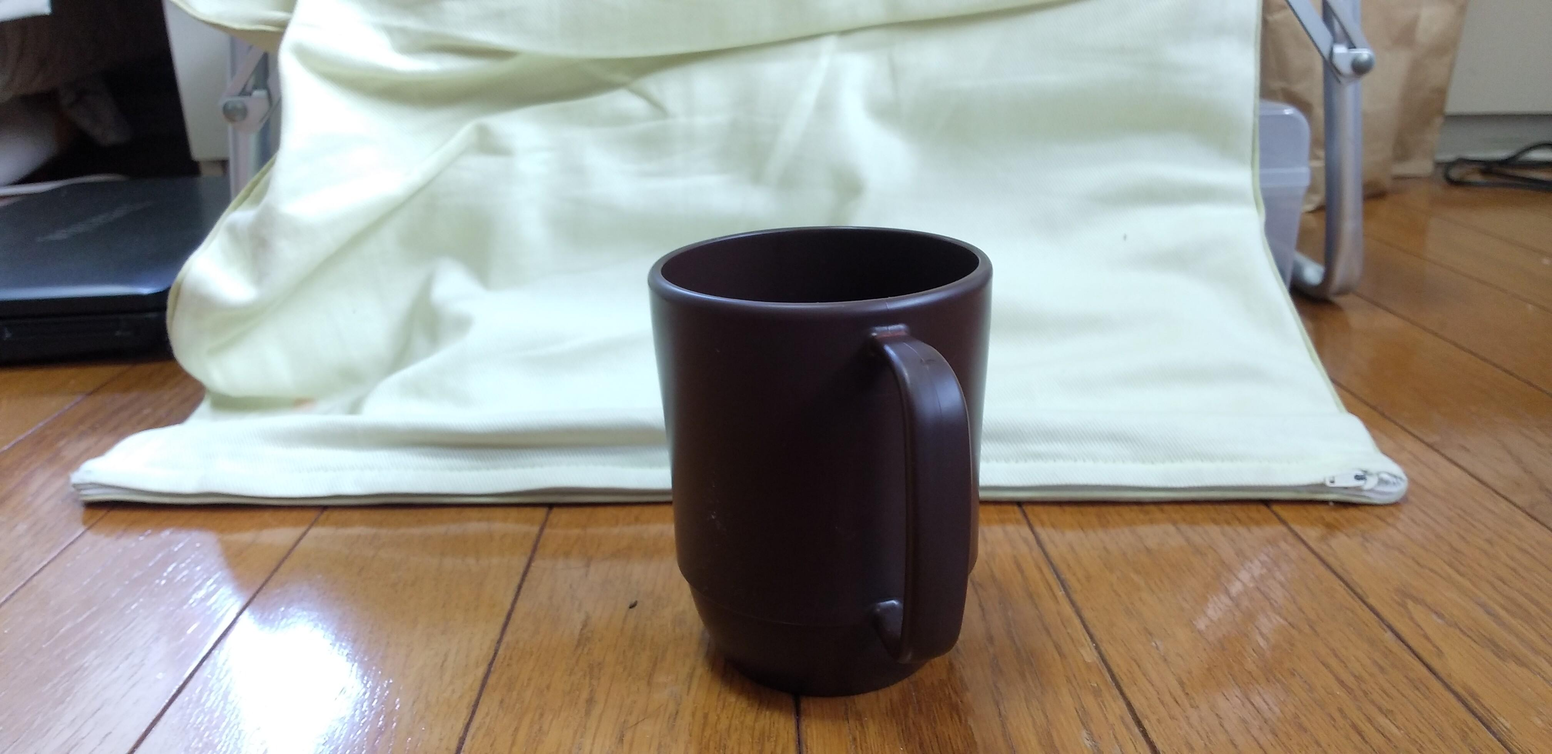mug-real100-3d100: (649, 227, 992, 696)
